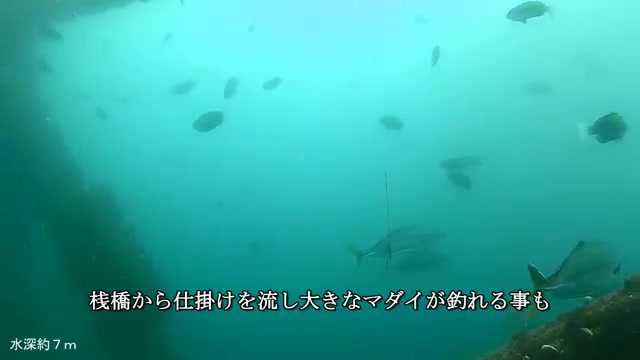smallfish: (582, 107, 633, 147)
